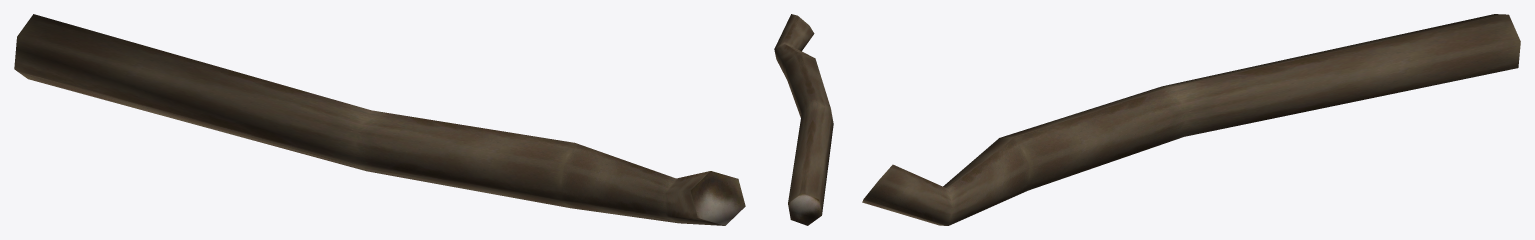
The model's file is ruinedsteamtankaxle01.obj.
3 views of the same model, side by side, from view 1: azimuth 30°, elevation 25°; view 2: azimuth 150°, elevation 25°; view 3: azimuth 270°, elevation 25° (orthographic). The views are drawn at different scales.
Visible parts, largest first — view 1: ruinedsteamtankaxle01; view 2: ruinedsteamtankaxle01; view 3: ruinedsteamtankaxle01.
Part boxes in pixels (box(x1,y1,x2,y2)): ruinedsteamtankaxle01: box(14, 14, 745, 225); ruinedsteamtankaxle01: box(774, 14, 833, 225); ruinedsteamtankaxle01: box(862, 14, 1520, 225).
Bounding box in the file's own units: 3.32 × 0.5649 × 5.26.
Materials: 1 (1 with a texture image).
